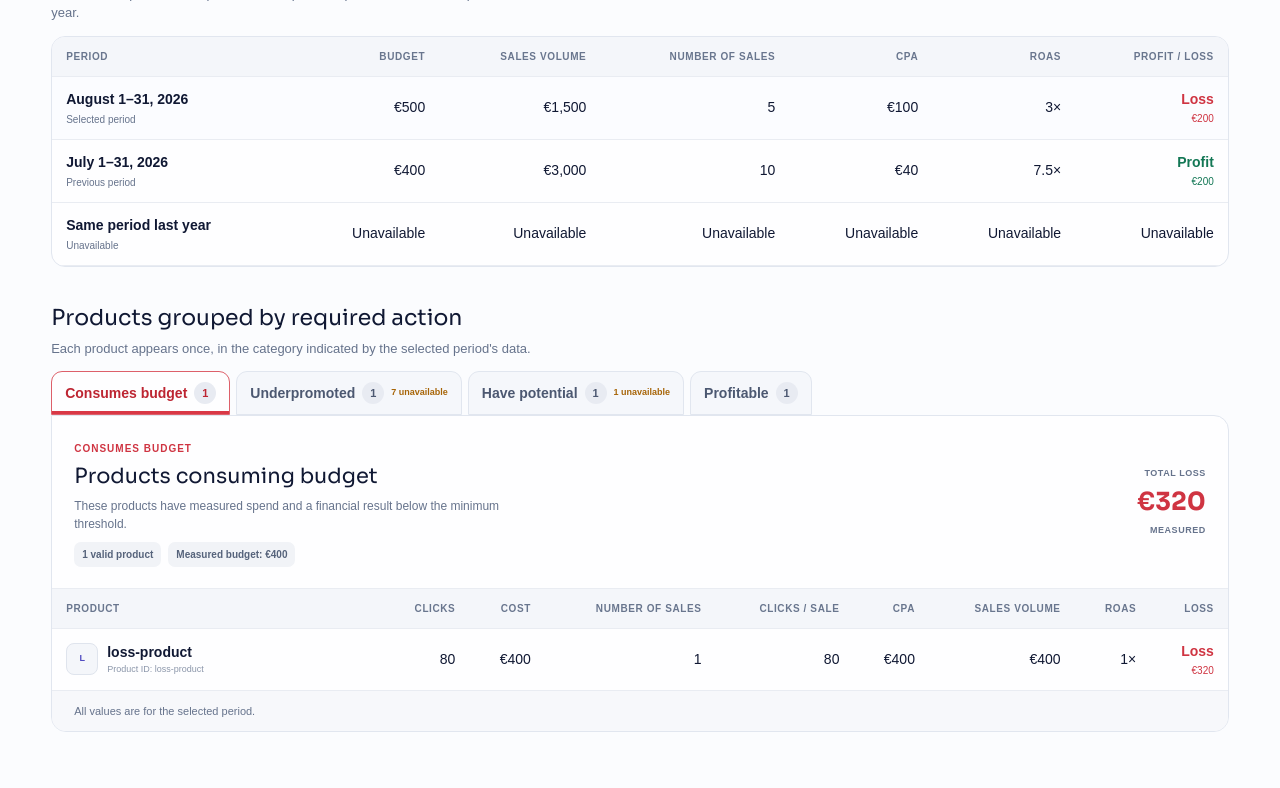
Test: obeys hand-built target presentation states and authoritative quarantined totals
(page scrolled)
Expected: the text "7 unavailable" is shown, [391,386,448,400]
Click the tab "Underpromoted 1 7 unavailable".
click(349, 393)  # box [236,371,462,415]
(page scrolled)
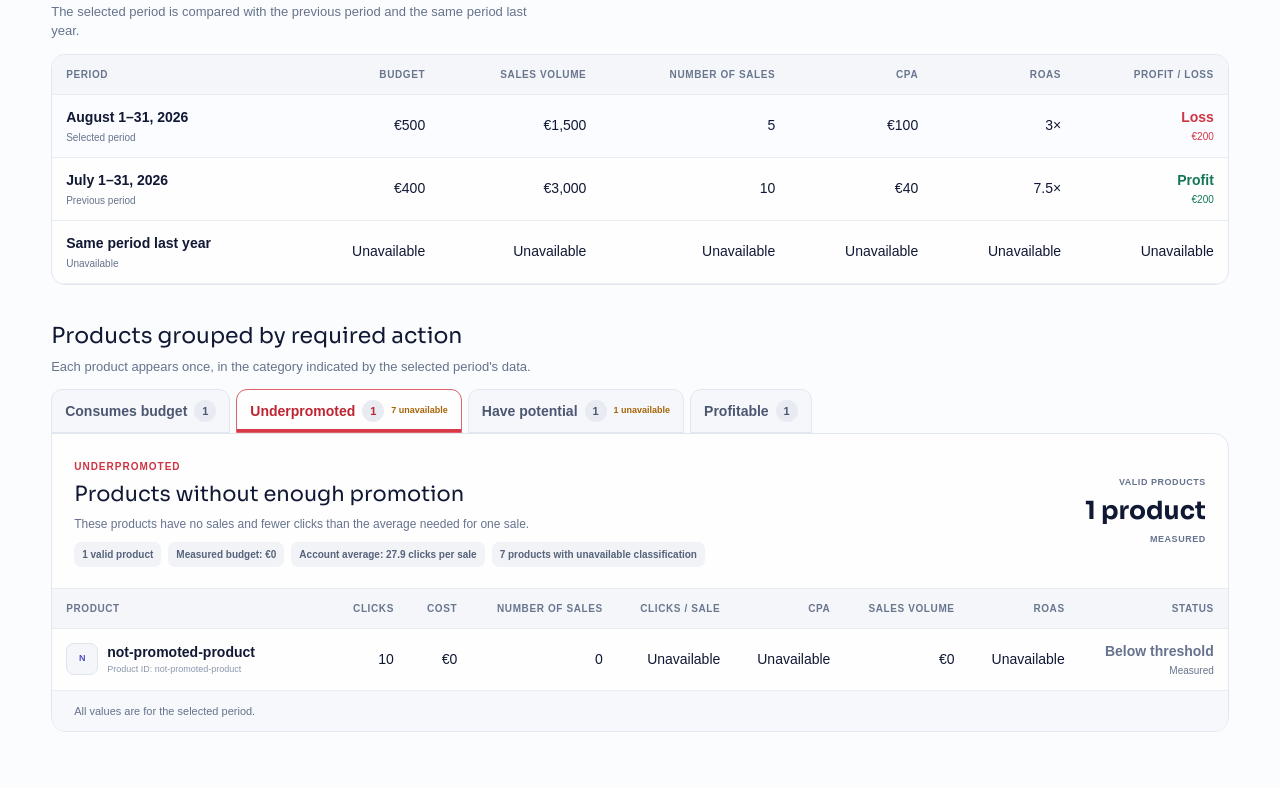
Expected: the text "7 products with unavailable classification" is shown, [492,542,705,566]
